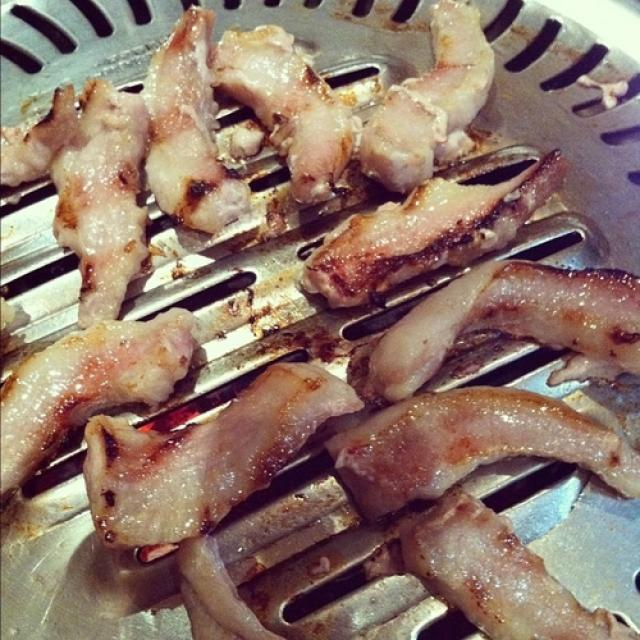猪肉菜式: (25, 32, 603, 621)
